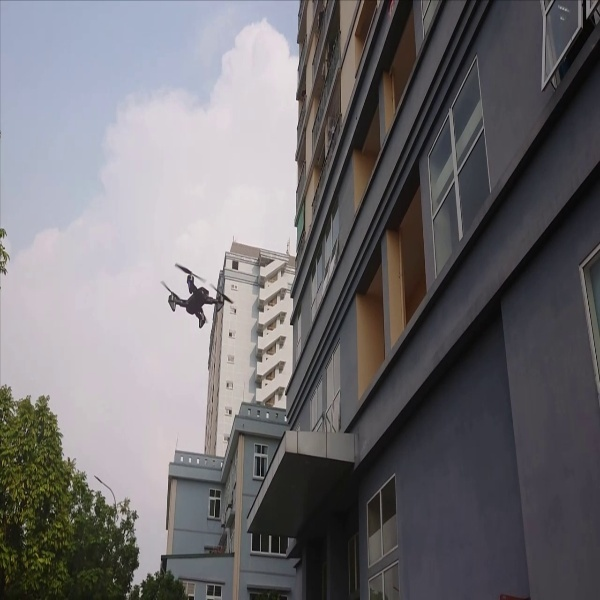drone: (155, 258, 242, 332)
